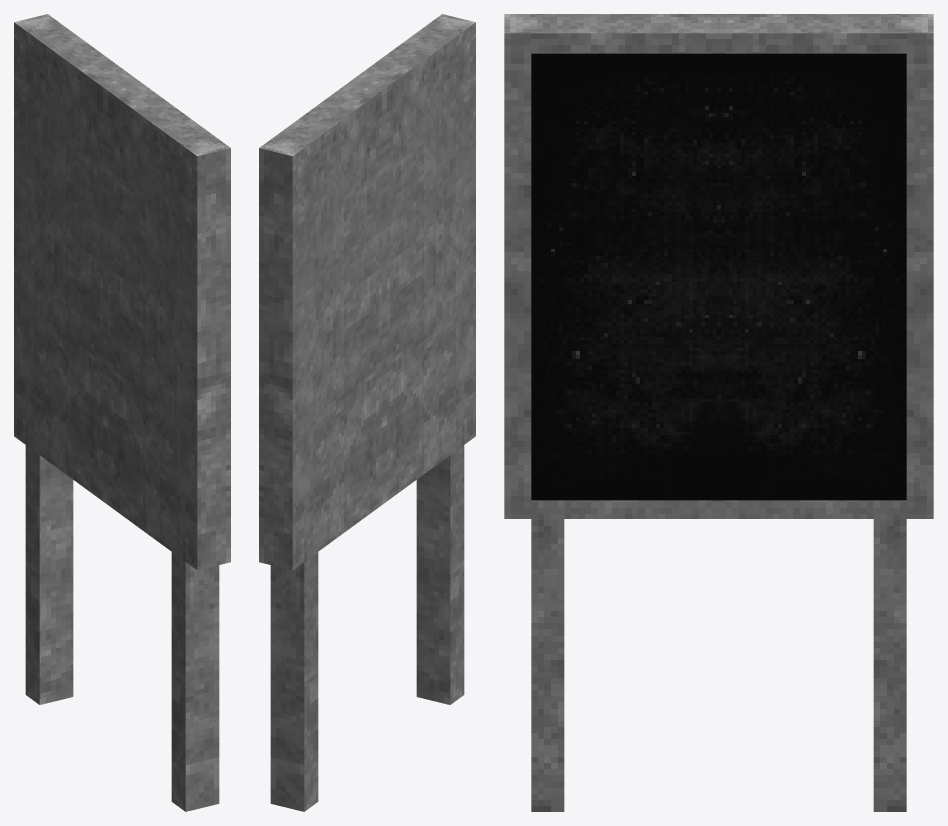
Rendered from screen.glb.
3 renders of one model, left to right at view 1: azimuth 30°, elevation 25°; view 2: azimuth 150°, elevation 25°; view 3: azimuth 270°, elevation 25°, orthographic. The views are drawn at different scales.
Visible parts, largest first — view 1: screen-col; view 2: screen-col; view 3: screen-col.
Part boxes in pixels (x1,y1,x2,y2): screen-col: [14, 14, 230, 811]; screen-col: [259, 14, 475, 811]; screen-col: [504, 14, 933, 811].
Size of the model in its own units: 0.2122 by 4 by 2.
2 materials, 2 textured.
